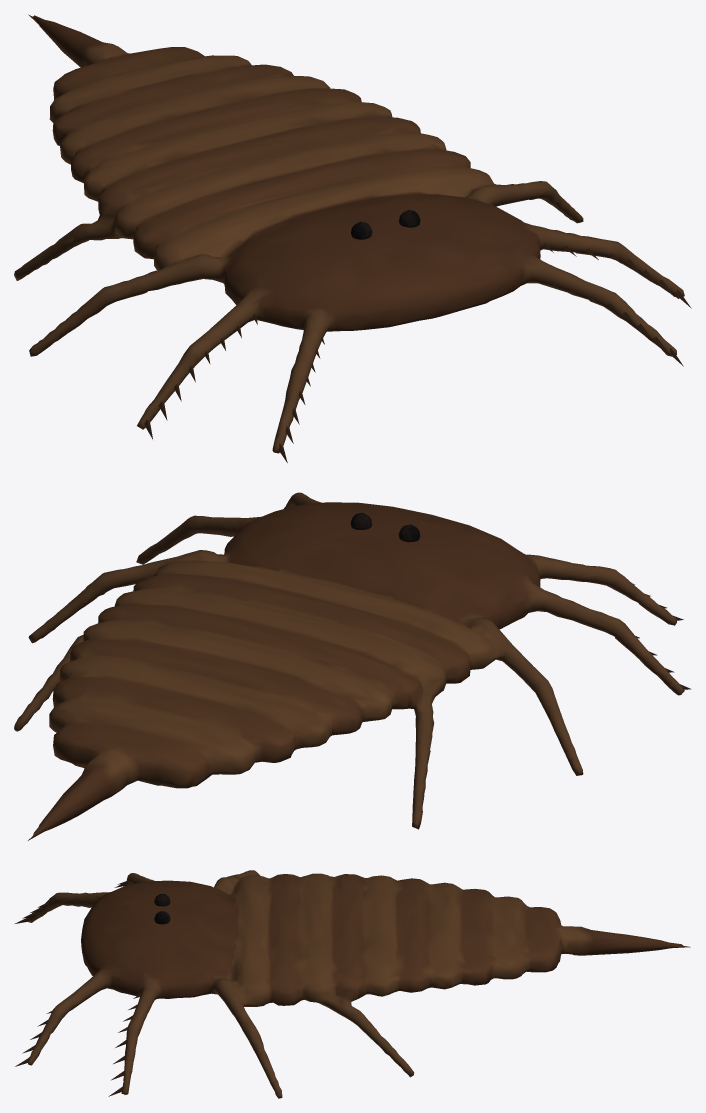
File: Megarachne.fbx
3 renders of one model, top to bottom at view 1: azimuth 30°, elevation 25°; view 2: azimuth 150°, elevation 25°; view 3: azimuth 270°, elevation 25°, orthographic. The views are drawn at different scales.
Visible parts, largest first — view 1: Megarachne; view 2: Megarachne; view 3: Megarachne.
Part boxes in pixels (left/top/right/bottom): Megarachne: left=14, top=14, right=691, bottom=462; Megarachne: left=14, top=492, right=691, bottom=840; Megarachne: left=15, top=870, right=690, bottom=1098.
Size of the model in its own units: 0.9247 by 0.2213 by 1.33.
